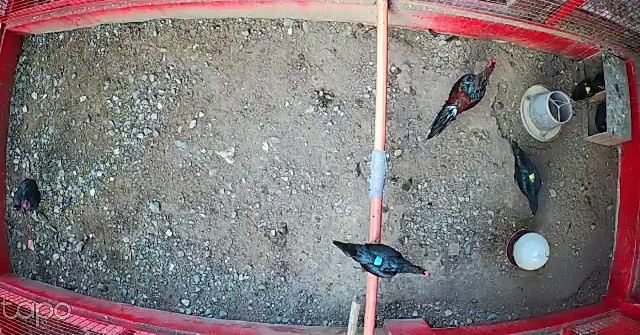Chicken: (331, 235, 432, 284), (508, 138, 543, 219), (10, 176, 53, 213), (569, 73, 607, 104)
Rooster: (422, 57, 501, 143)
Saddle_Color_Blue: (373, 256, 385, 268)
Saddle_Color_Yellow: (585, 82, 594, 93)
Saddle_Color_YellowGreen: (525, 170, 538, 184)
